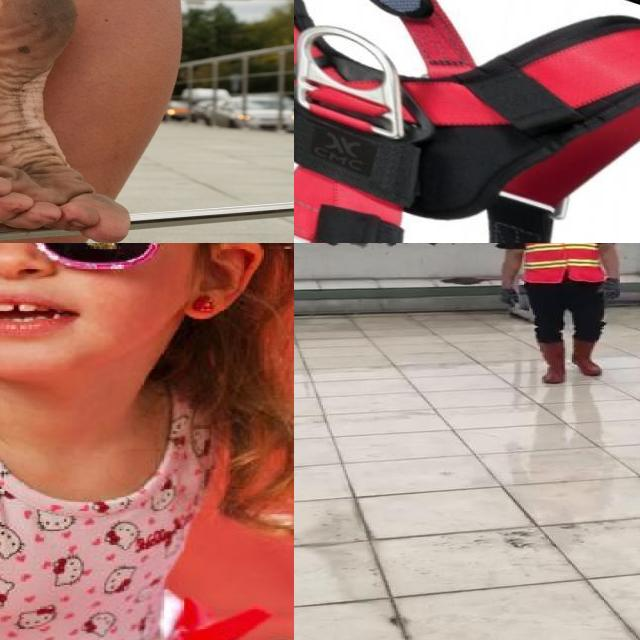Barefoots: (0, 0, 130, 243)
Harness: (294, 0, 640, 243)
No_Ear-Protection: (184, 243, 263, 334)
boots: (534, 337, 570, 384), (568, 337, 606, 377)
face_nomask: (0, 243, 162, 359)
person: (0, 243, 294, 640), (494, 243, 626, 390)
vest: (520, 243, 604, 285)
